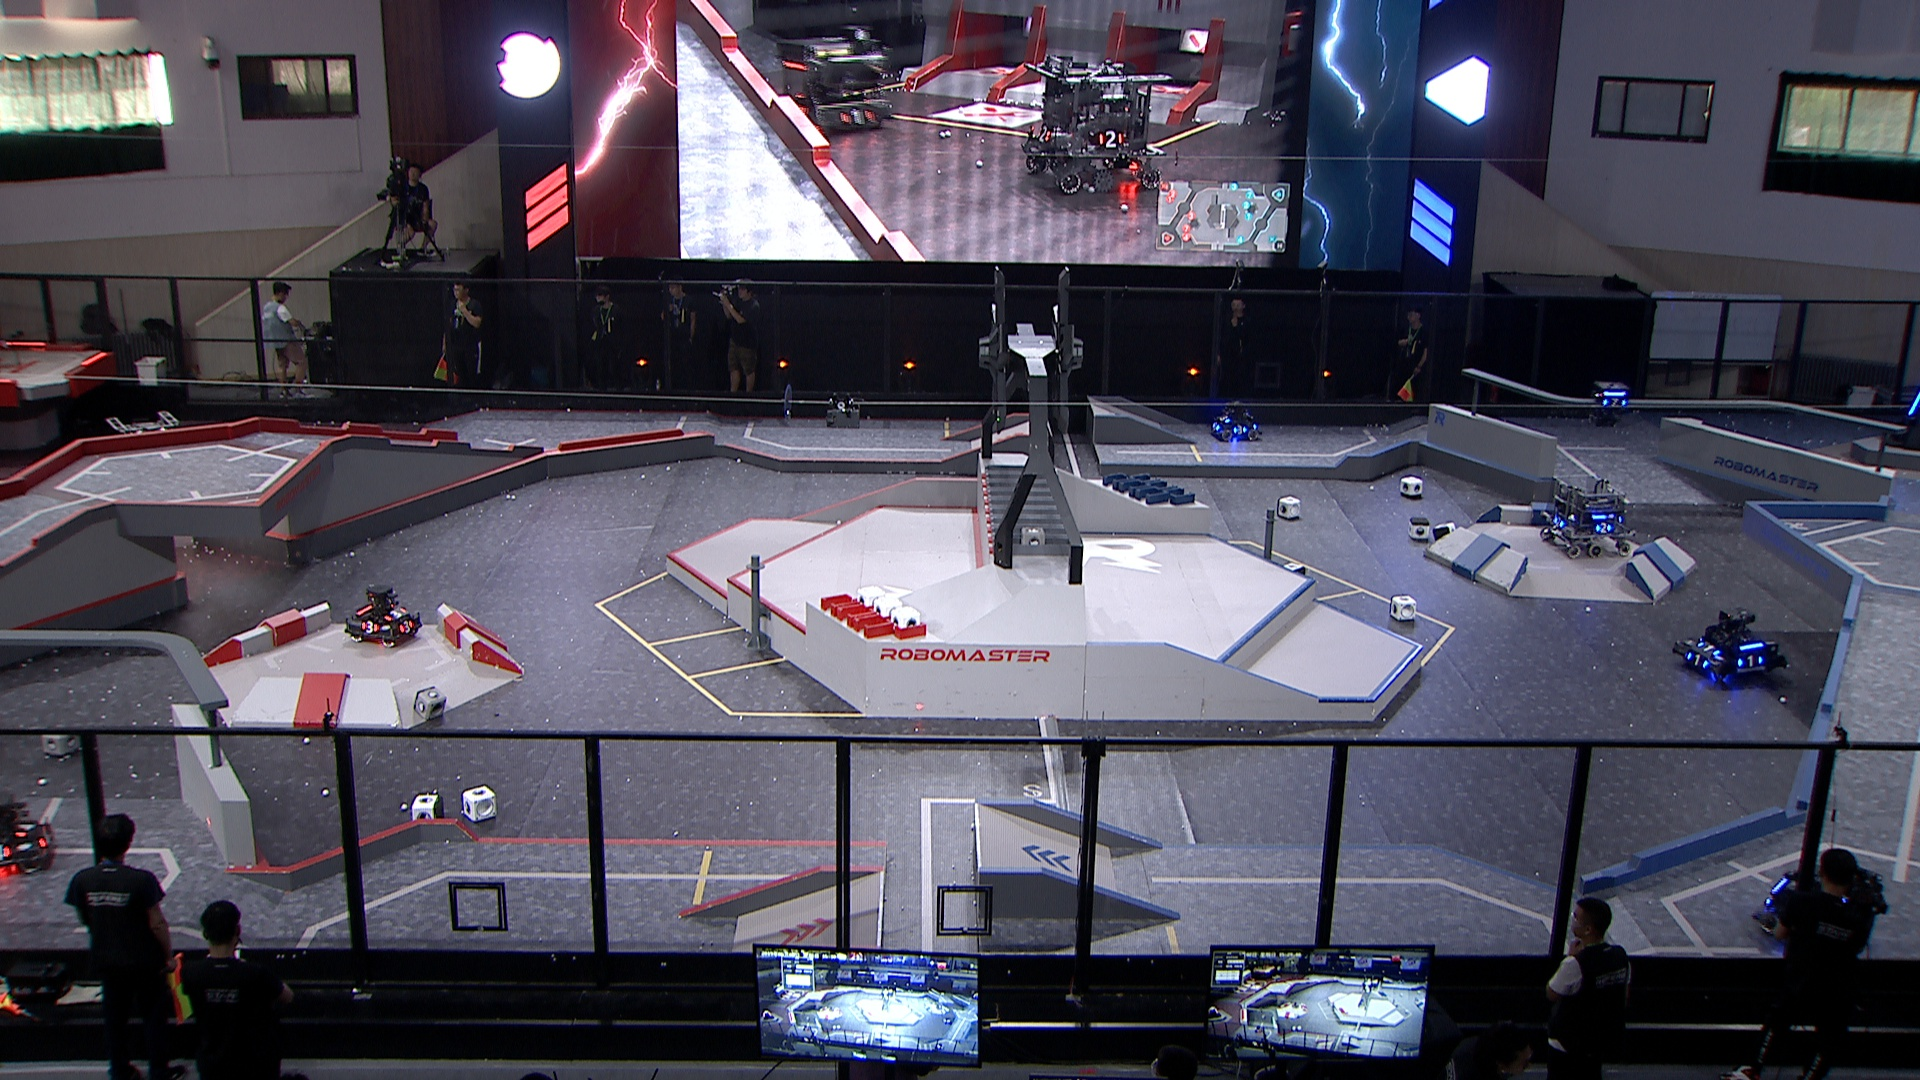armor: (1684, 651, 1712, 669), (13, 818, 36, 839), (1735, 651, 1762, 669), (382, 605, 409, 622), (38, 823, 54, 849), (1600, 396, 1629, 409), (359, 618, 380, 636), (1697, 642, 1724, 655), (1907, 390, 1920, 415), (1594, 520, 1613, 535), (396, 618, 414, 632), (1552, 514, 1567, 529), (1232, 425, 1249, 436), (1216, 414, 1232, 425), (1209, 419, 1221, 431)
base: (1878, 360, 1920, 456)
car: (1673, 609, 1788, 688), (1539, 472, 1636, 560), (102, 407, 186, 487), (343, 583, 422, 647), (1203, 396, 1265, 443)
ignore: (1015, 55, 1171, 196), (775, 26, 891, 135)
watcher: (1589, 376, 1636, 431)
